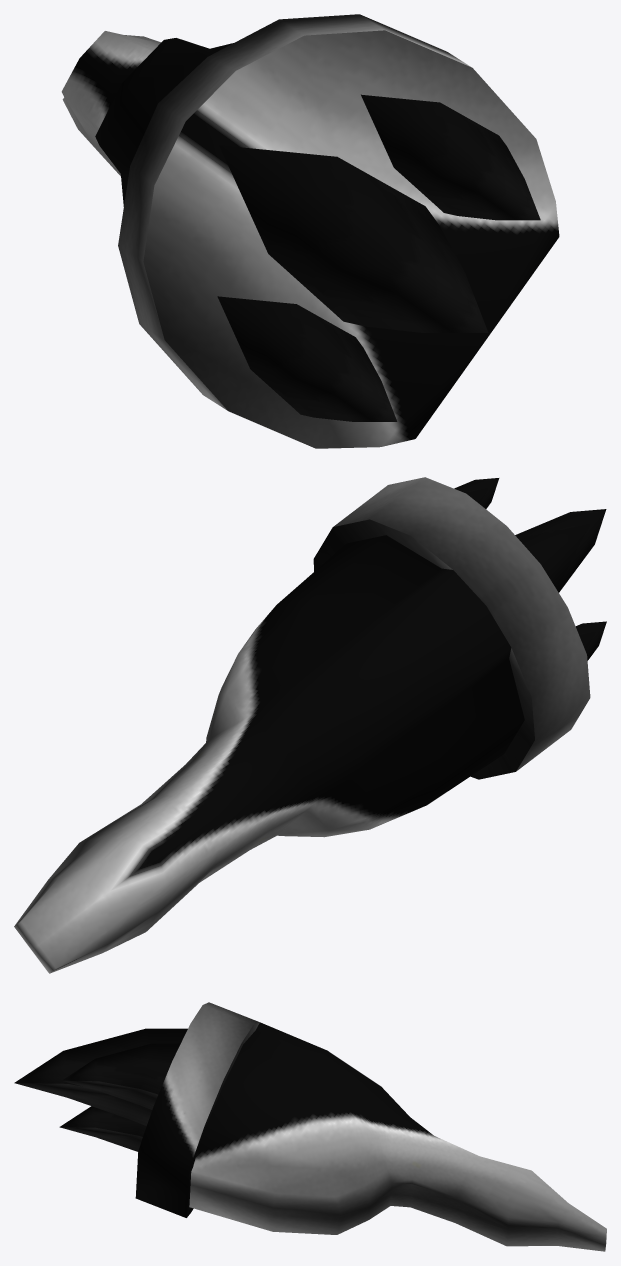
File: 0350_jujingusi_M.glb
The picture shows the model from 3 angles, top to bottom: view 1: azimuth 30°, elevation 25°; view 2: azimuth 150°, elevation 25°; view 3: azimuth 270°, elevation 25°; orthographic projection. The views are drawn at different scales.
Size of the model in its own units: 0.8393 by 0.8506 by 2.2.
Materials: 1 (1 with a texture image).
